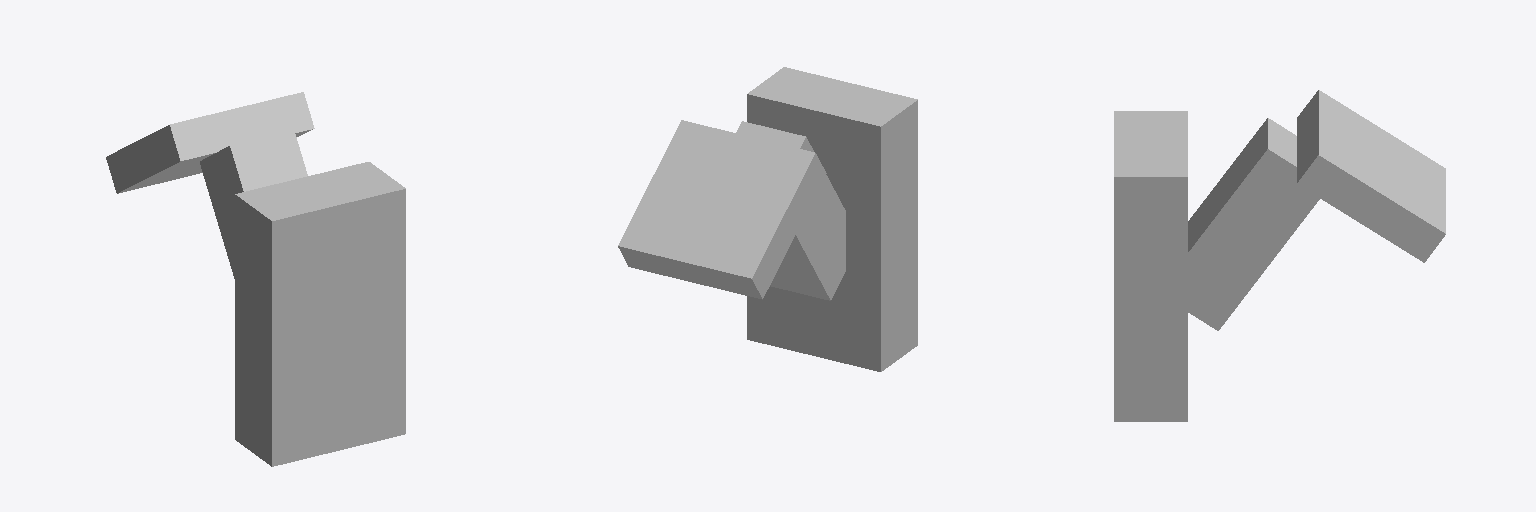
Rendered from tripwire_hook.obj.
3 views of the same model, side by side, from view 1: azimuth 30°, elevation 25°; view 2: azimuth 150°, elevation 25°; view 3: azimuth 270°, elevation 25° (orthographic).
Visible parts, largest first — view 1: Cube, Cube.002, Cube.001; view 2: Cube, Cube.002, Cube.001; view 3: Cube, Cube.002, Cube.001.
Boxes of the visible parts, box(x1,y1,x2,y2) form: Cube: box(235, 162, 405, 466); Cube.002: box(106, 92, 314, 193); Cube.001: box(200, 130, 307, 278); Cube: box(747, 67, 917, 371); Cube.002: box(618, 120, 826, 299); Cube.001: box(736, 121, 845, 300); Cube: box(1114, 111, 1187, 421); Cube.002: box(1297, 90, 1445, 262); Cube.001: box(1188, 118, 1319, 330).
Size of the model in its own units: 0.5 by 0.9528 by 1.07.